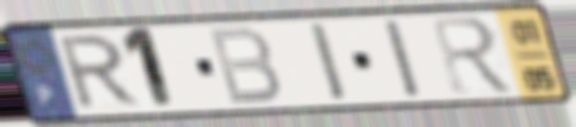1: (118, 24, 180, 114)
B: (204, 24, 284, 108)
I: (380, 17, 427, 102), (306, 20, 353, 105)
R: (426, 14, 520, 97), (56, 31, 145, 112)
